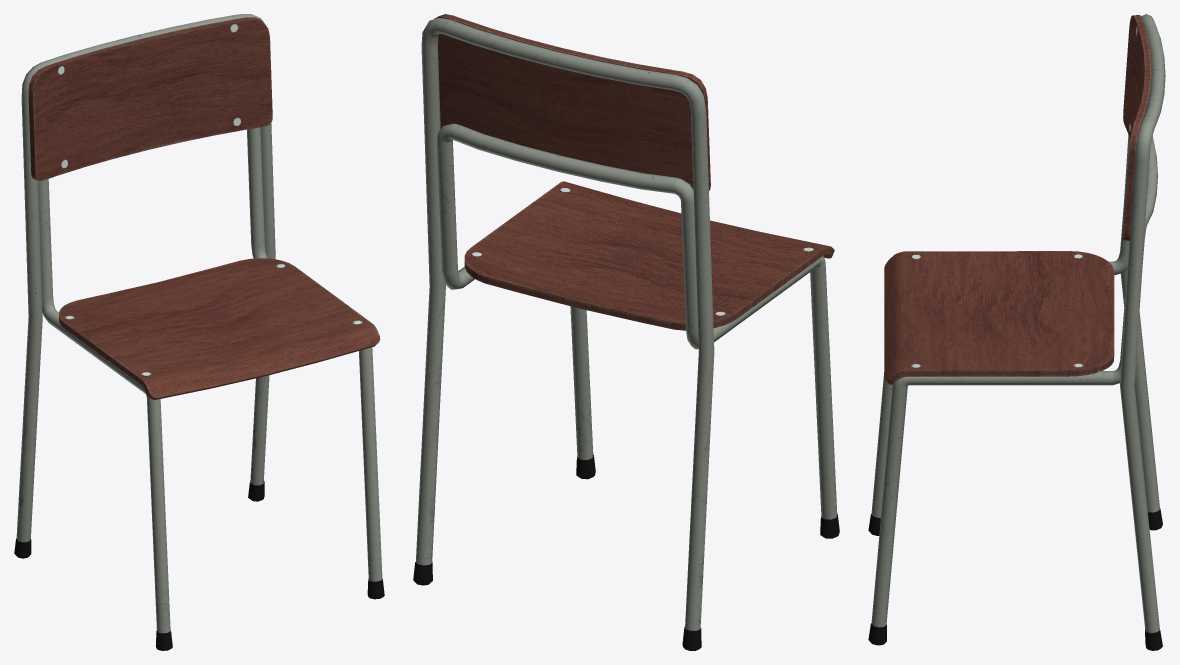
The model's file is Cadeira.gltf.
The picture shows the model from 3 angles, left to right: view 1: azimuth 30°, elevation 25°; view 2: azimuth 150°, elevation 25°; view 3: azimuth 270°, elevation 25°; orthographic projection. The views are drawn at different scales.
Parts seen in each view (by area): view 1: School_Chair; view 2: School_Chair; view 3: School_Chair.
Part boxes in pixels (x1,y1,x2,y2): School_Chair: (14, 14, 384, 650); School_Chair: (413, 14, 839, 650); School_Chair: (868, 14, 1165, 650).
Size of the model in its own units: 0.4216 by 0.7989 by 0.4137.
